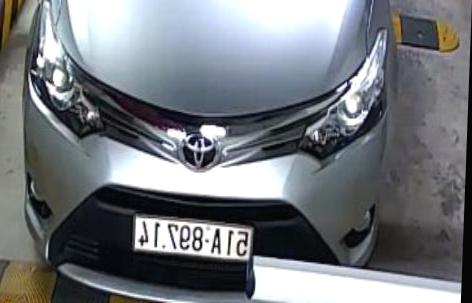License_Plate: (127, 216, 255, 266)
